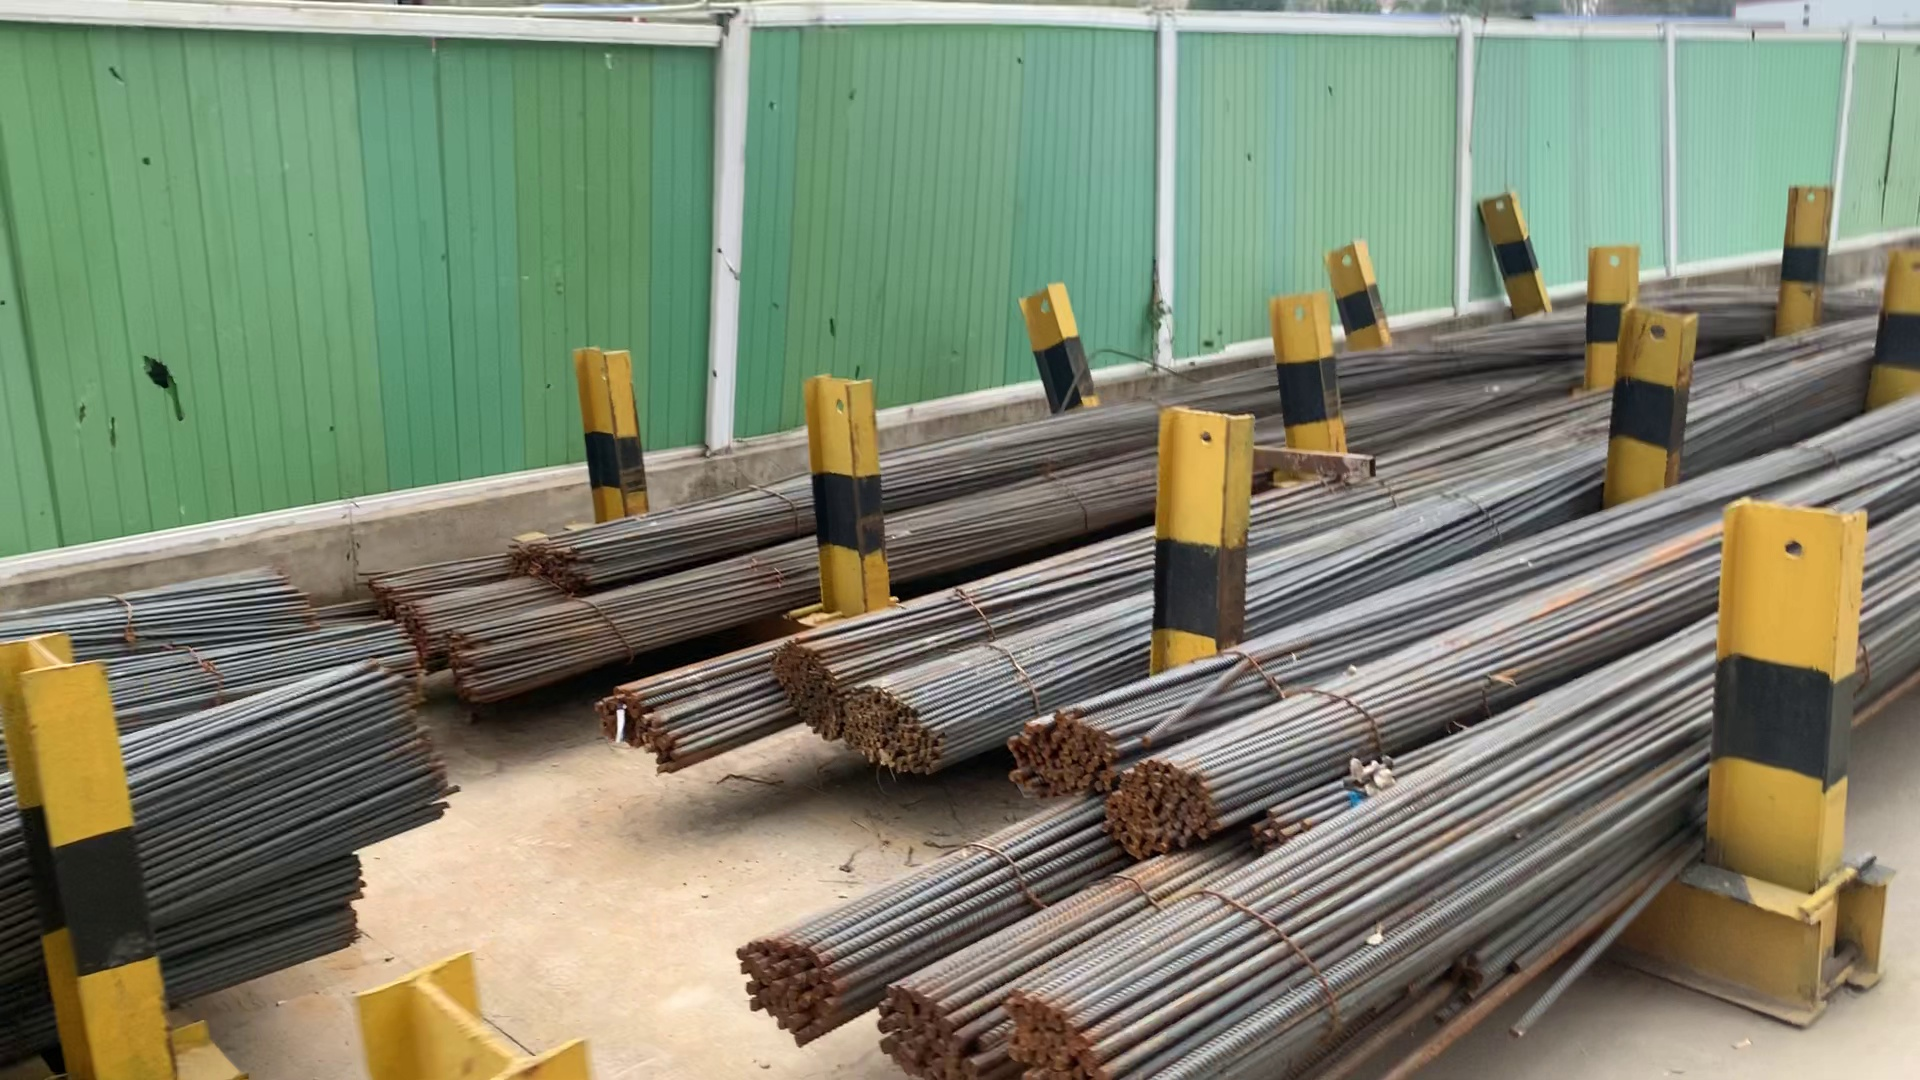rebar: (738, 934, 839, 1048), (989, 712, 1112, 800), (1101, 765, 1212, 855), (877, 980, 976, 1077), (761, 638, 847, 749), (1006, 988, 1101, 1080), (847, 691, 939, 771), (596, 688, 680, 771), (502, 537, 591, 596), (440, 633, 488, 712)
